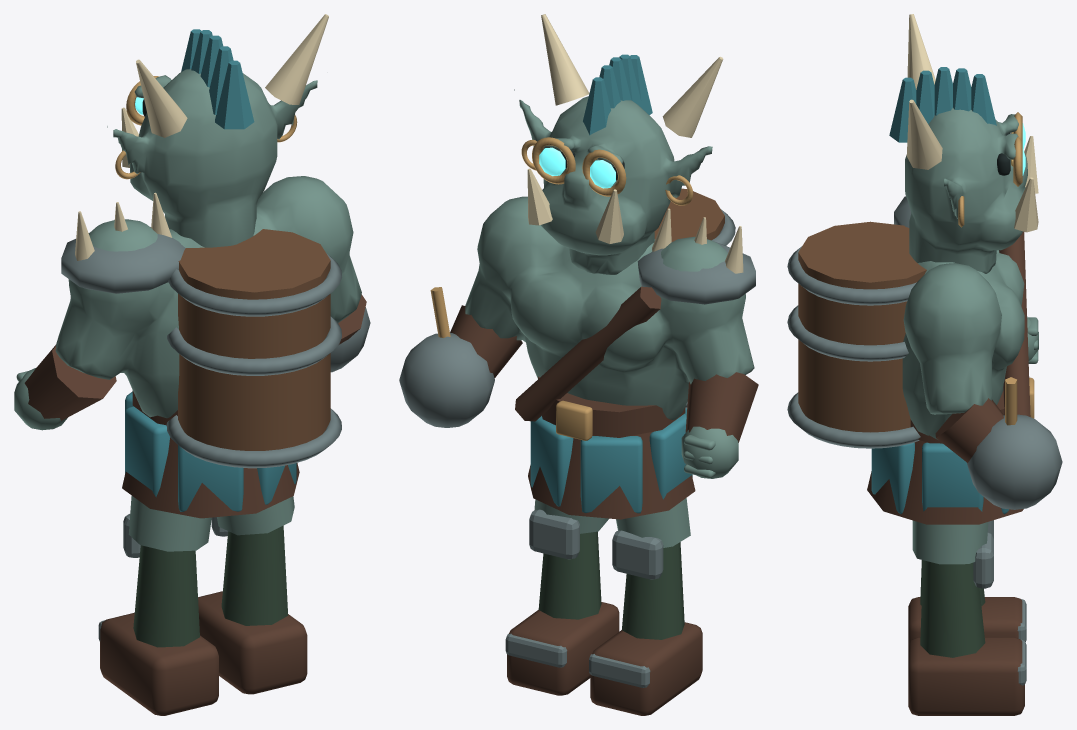
File: host_24.glb
3 views of the same model, side by side, from view 1: azimuth 30°, elevation 25°; view 2: azimuth 150°, elevation 25°; view 3: azimuth 270°, elevation 25° (orthographic). The views are drawn at different scales.
Parts seen in each view (by area): view 1: mesh_Skin.002, mesh_Wood.023, mesh_Iron.002, mesh_Cloth.023, mesh_Leather.002, mesh_Leather.023, mesh_Leather.001, mesh_Shadow.023, mesh_Bone.023, mesh_Shadow.001, mesh_Skin.023, mesh_Skin.001 (+1 smaller); view 2: mesh_Skin.002, mesh_Leather.002, mesh_Cloth.023, mesh_Iron.002, mesh_Bone.023, mesh_Leather.023, mesh_Leather.001, mesh_Copper.023, mesh_Shadow.023, mesh_Shadow.001, mesh_Iron.023, mesh_Iron.001 (+4 smaller); view 3: mesh_Skin.002, mesh_Wood.023, mesh_Iron.002, mesh_Cloth.023, mesh_Leather.001, mesh_Leather.002, mesh_Shadow.001, mesh_Bone.023, mesh_Skin.001, mesh_Leather.023, mesh_Copper.023, mesh_Iron.001.
Part boxes in pixels (left/top/right/bottom): mesh_Skin.002: left=14, top=69, right=361, bottom=430; mesh_Wood.023: left=178, top=229, right=330, bottom=450; mesh_Iron.002: left=61, top=227, right=370, bottom=468; mesh_Cloth.023: left=125, top=29, right=296, bottom=511; mesh_Leather.002: left=24, top=294, right=366, bottom=518; mesh_Leather.023: left=100, top=612, right=218, bottom=715; mesh_Leather.001: left=198, top=591, right=307, bottom=694; mesh_Shadow.023: left=133, top=545, right=199, bottom=647; mesh_Bone.023: left=75, top=14, right=328, bottom=260; mesh_Shadow.001: left=221, top=525, right=288, bottom=625; mesh_Skin.023: left=128, top=496, right=211, bottom=551; mesh_Skin.001: left=217, top=496, right=294, bottom=535; mesh_Skin.002: left=465, top=89, right=754, bottom=478; mesh_Leather.002: left=450, top=286, right=758, bottom=519; mesh_Cloth.023: left=530, top=54, right=692, bottom=513; mesh_Iron.002: left=399, top=209, right=755, bottom=427; mesh_Bone.023: left=527, top=14, right=743, bottom=273; mesh_Leather.023: left=590, top=622, right=702, bottom=715; mesh_Leather.001: left=507, top=602, right=619, bottom=695; mesh_Copper.023: left=430, top=137, right=693, bottom=440; mesh_Shadow.023: left=622, top=542, right=684, bottom=639; mesh_Shadow.001: left=538, top=531, right=601, bottom=619; mesh_Iron.023: left=589, top=530, right=663, bottom=687; mesh_Iron.001: left=505, top=509, right=579, bottom=667; mesh_Skin.002: left=902, top=108, right=1038, bottom=443; mesh_Wood.023: left=798, top=221, right=926, bottom=432; mesh_Iron.002: left=787, top=196, right=1062, bottom=509; mesh_Cloth.023: left=871, top=67, right=1008, bottom=514; mesh_Leather.001: left=908, top=637, right=1024, bottom=715; mesh_Leather.002: left=867, top=231, right=1030, bottom=524; mesh_Shadow.001: left=920, top=560, right=985, bottom=657; mesh_Bone.023: left=906, top=14, right=1038, bottom=232; mesh_Skin.001: left=912, top=520, right=988, bottom=564; mesh_Leather.023: left=908, top=597, right=1022, bottom=646; mesh_Copper.023: left=958, top=112, right=1034, bottom=425; mesh_Iron.001: left=973, top=532, right=1026, bottom=685.
Size of the model in its own units: 1.07 by 1.96 by 0.7778.
